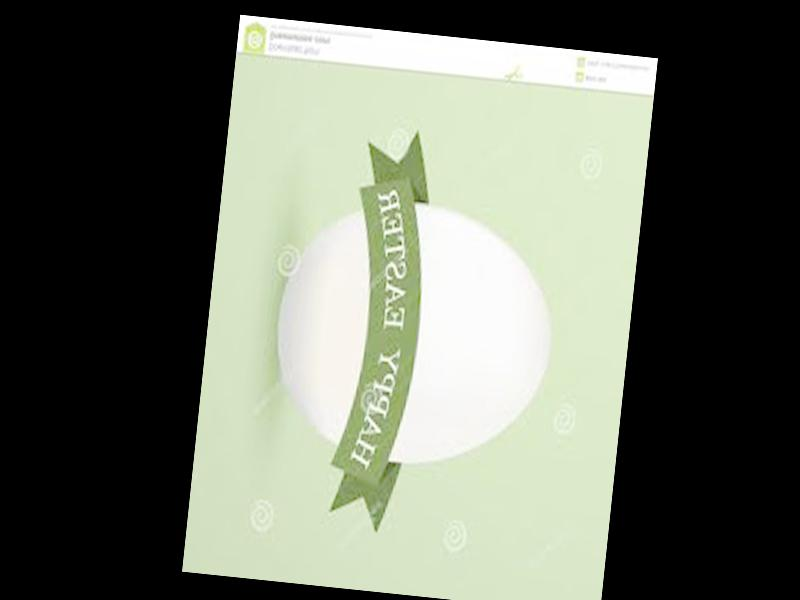Eggs: (266, 189, 563, 473)
